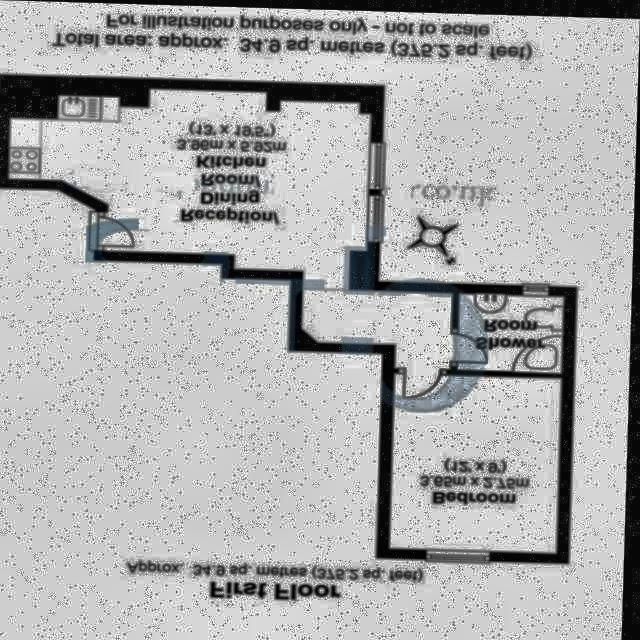room: (0, 60, 482, 372), (392, 371, 563, 550), (459, 291, 565, 370)
